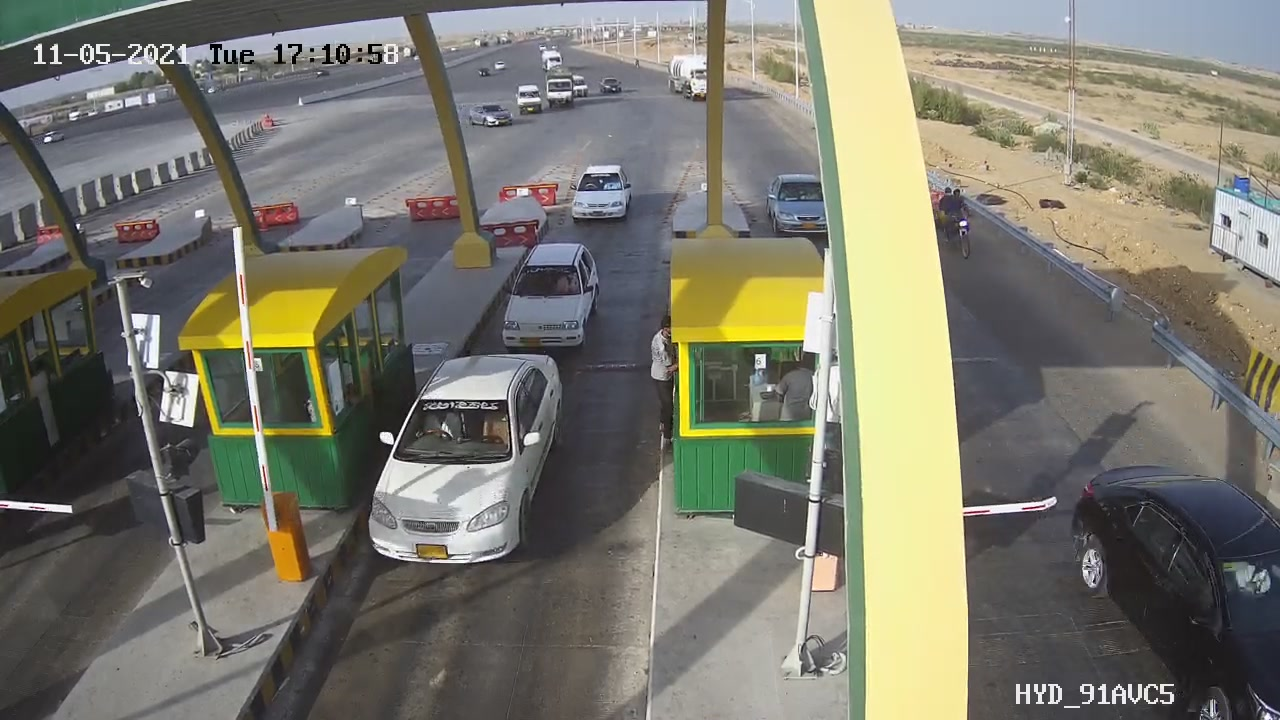F1: (350, 339, 583, 586), (486, 225, 611, 375)
